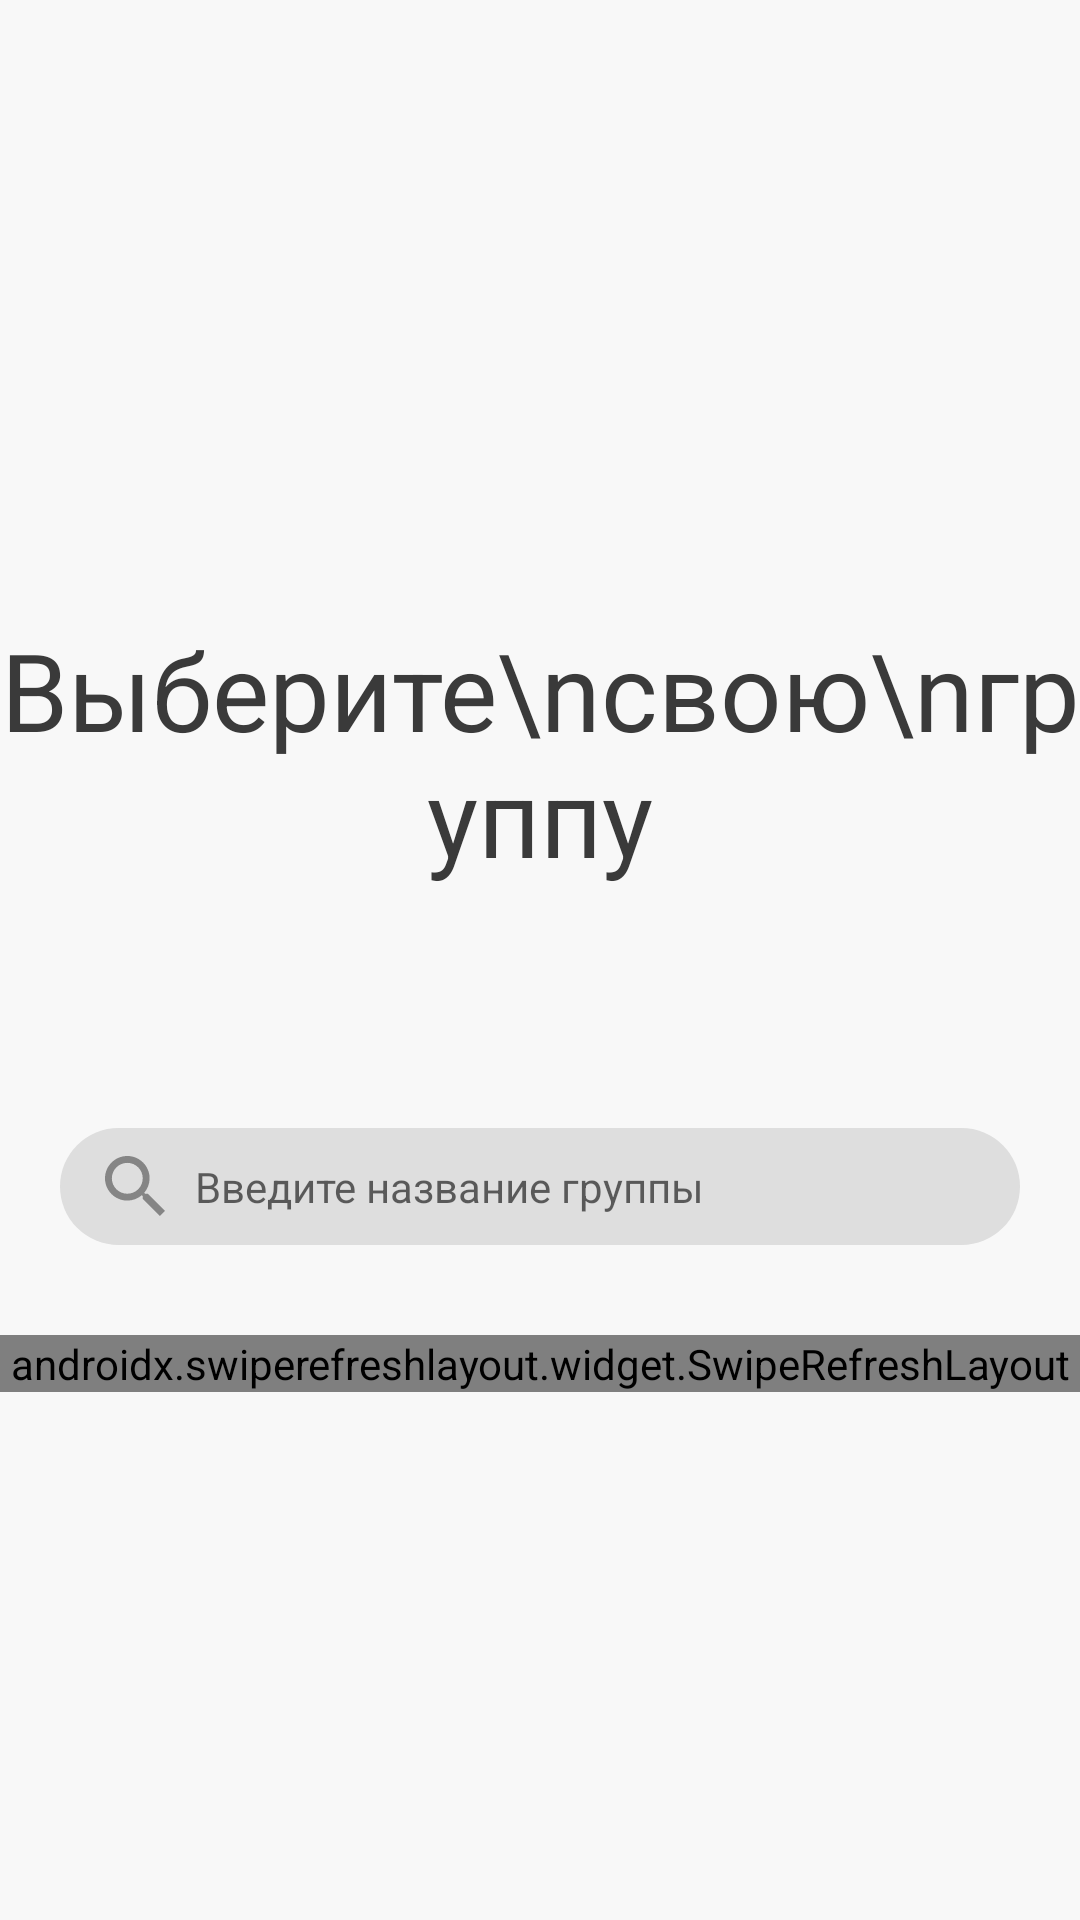

Icons on this 1080 x 1920 Android screen, each with the point to tap as [x,y]:
searchicon: [135,1186]
